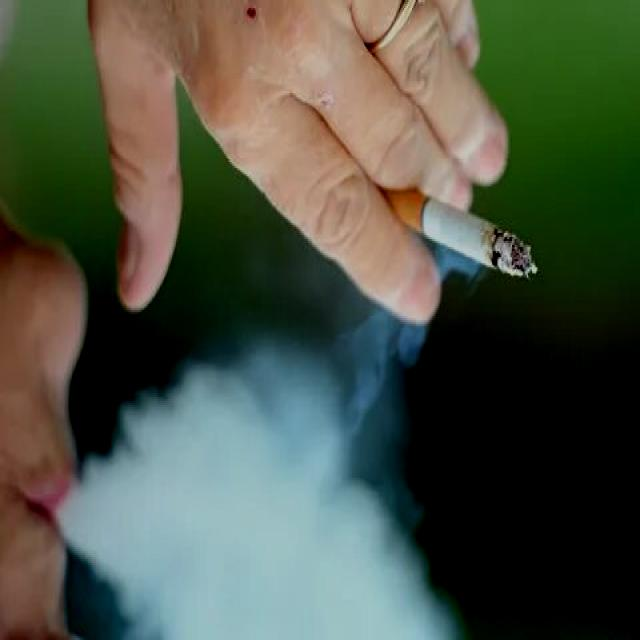cigarette: (378, 176, 554, 288)
